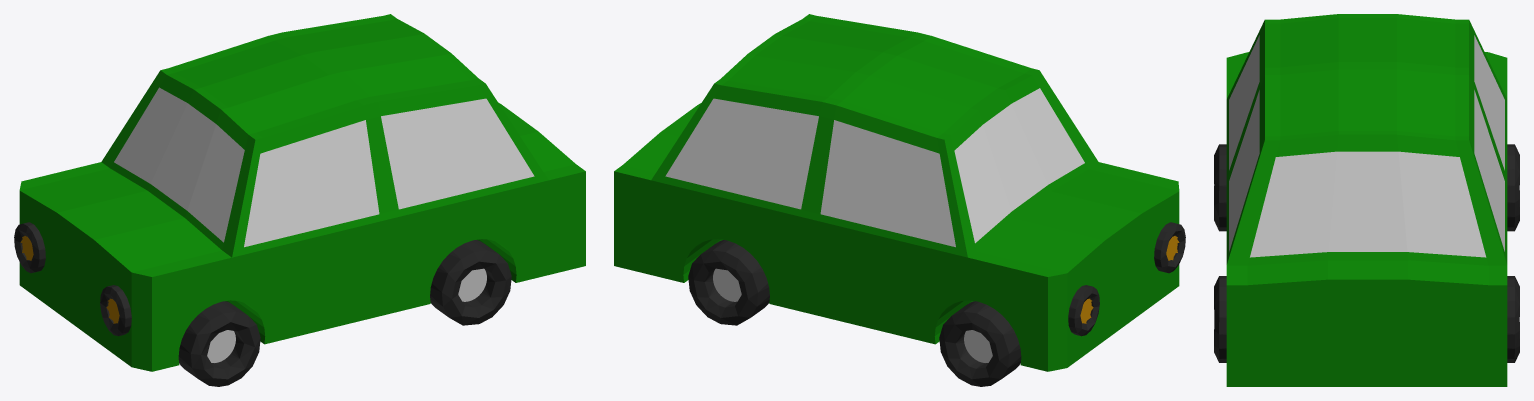
Rendered from car_3.fbx.
The picture shows the model from 3 angles, left to right: view 1: azimuth 30°, elevation 25°; view 2: azimuth 150°, elevation 25°; view 3: azimuth 270°, elevation 25°; orthographic projection. The views are drawn at different scales.
Visible parts, largest first — view 1: car_3, wheel_1_R.001, wheel_2_R.001; view 2: car_3, wheel_1_L.001, wheel_2_L.001; view 3: car_3, wheel_1_L.001, wheel_1_R.001, wheel_2_R.001, wheel_2_L.001.
Boxes of the visible parts, x1,y1,x2,y2 form: car_3: (14, 14, 585, 371); wheel_1_R.001: (178, 301, 260, 386); wheel_2_R.001: (430, 240, 511, 325); car_3: (614, 14, 1185, 371); wheel_1_L.001: (939, 301, 1021, 386); wheel_2_L.001: (688, 240, 769, 325); car_3: (1226, 14, 1507, 386); wheel_1_L.001: (1507, 144, 1519, 231); wheel_1_R.001: (1214, 144, 1226, 231); wheel_2_R.001: (1214, 276, 1226, 362); wheel_2_L.001: (1507, 276, 1519, 362).
Size of the model in its own units: 383 by 187 by 208.
